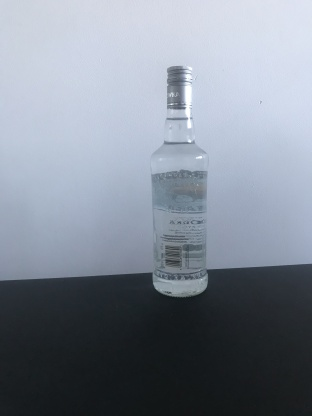nakretka: (165, 63, 195, 110)
